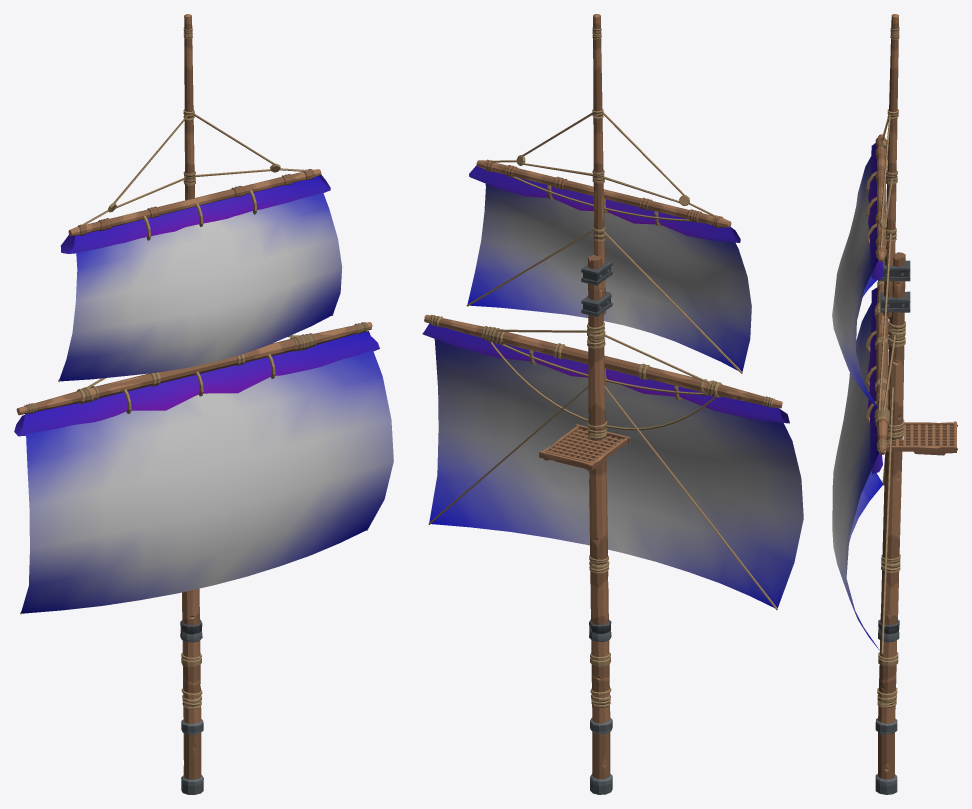
Rendered from SM_Veh_Ship_L_Mast_Front_01.fbx.
3 views of the same model, side by side, from view 1: azimuth 30°, elevation 25°; view 2: azimuth 150°, elevation 25°; view 3: azimuth 270°, elevation 25° (orthographic).
Visible parts, largest first — view 1: SM_Veh_Ship_L_Mast_Front_01_Boom_01, SM_Veh_Ship_L_Mast_Front_01; view 2: SM_Veh_Ship_L_Mast_Front_01_Boom_01, SM_Veh_Ship_L_Mast_Front_01; view 3: SM_Veh_Ship_L_Mast_Front_01, SM_Veh_Ship_L_Mast_Front_01_Boom_01.
Part boxes in pixels (x1,y1,x2,y2): SM_Veh_Ship_L_Mast_Front_01_Boom_01: [14, 174, 393, 614]; SM_Veh_Ship_L_Mast_Front_01: [16, 14, 372, 794]; SM_Veh_Ship_L_Mast_Front_01_Boom_01: [422, 165, 803, 610]; SM_Veh_Ship_L_Mast_Front_01: [424, 14, 782, 794]; SM_Veh_Ship_L_Mast_Front_01: [874, 14, 957, 794]; SM_Veh_Ship_L_Mast_Front_01_Boom_01: [832, 143, 893, 654].
Bounding box in the file's own units: 1736 × 3541 × 519.
